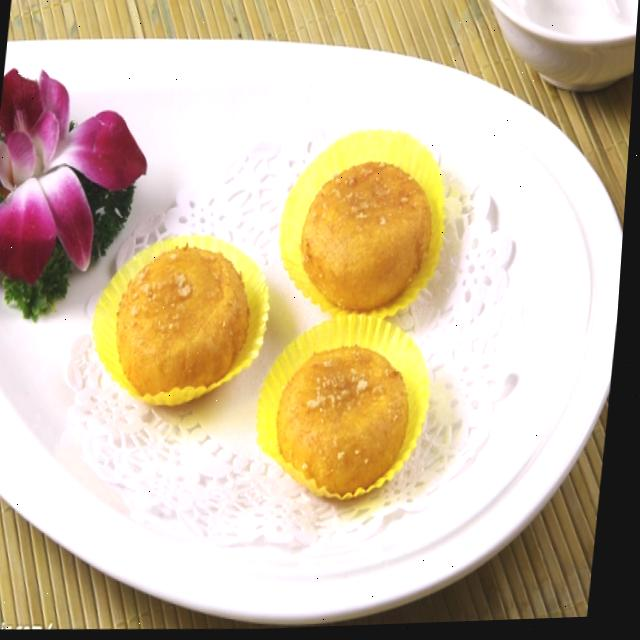炸货点心: (67, 79, 515, 537)
蛋糕甜品: (67, 79, 515, 537)
